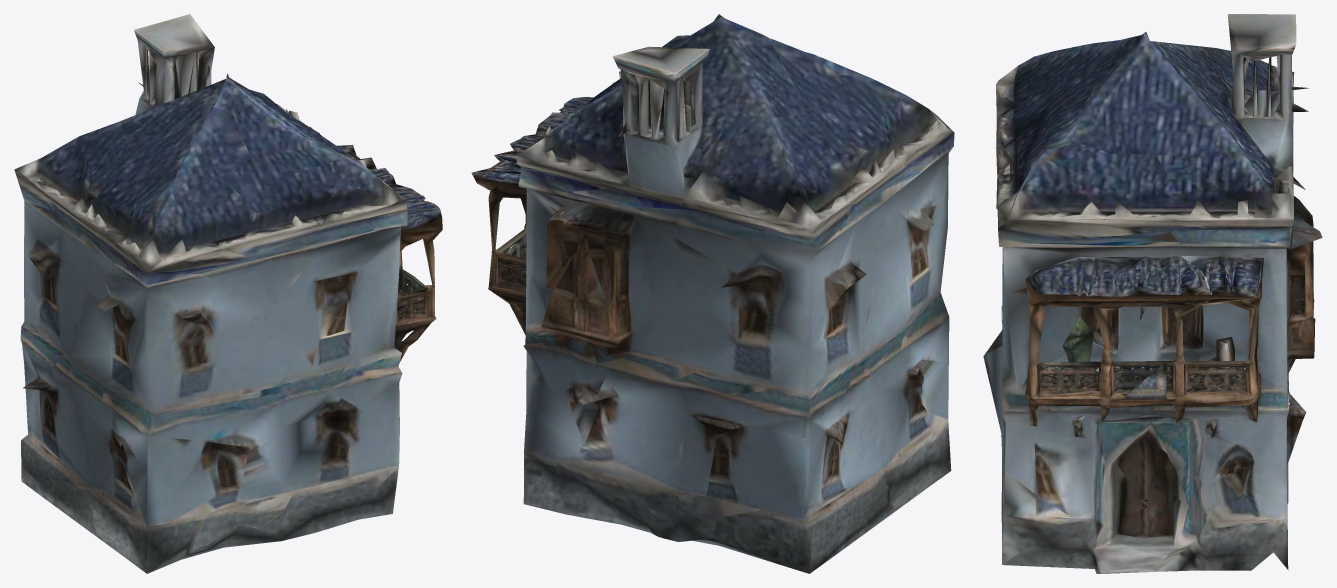
The model's file is house_merchant_0.glb.
3 renders of one model, left to right at view 1: azimuth 30°, elevation 25°; view 2: azimuth 150°, elevation 25°; view 3: azimuth 270°, elevation 25°, orthographic. The views are drawn at different scales.
Parts seen in each view (by area): view 1: tripo_node_e8c3637a-7642-41ce-a474-6af97cdf0c9b; view 2: tripo_node_e8c3637a-7642-41ce-a474-6af97cdf0c9b; view 3: tripo_node_e8c3637a-7642-41ce-a474-6af97cdf0c9b.
Part boxes in pixels (<box>): tripo_node_e8c3637a-7642-41ce-a474-6af97cdf0c9b: <box>14,14,442,573</box>; tripo_node_e8c3637a-7642-41ce-a474-6af97cdf0c9b: <box>471,14,954,573</box>; tripo_node_e8c3637a-7642-41ce-a474-6af97cdf0c9b: <box>983,14,1322,573</box>.
Bounding box in the file's own units: 0.7601 × 0.9274 × 0.5927.
1 material, 1 textured.
